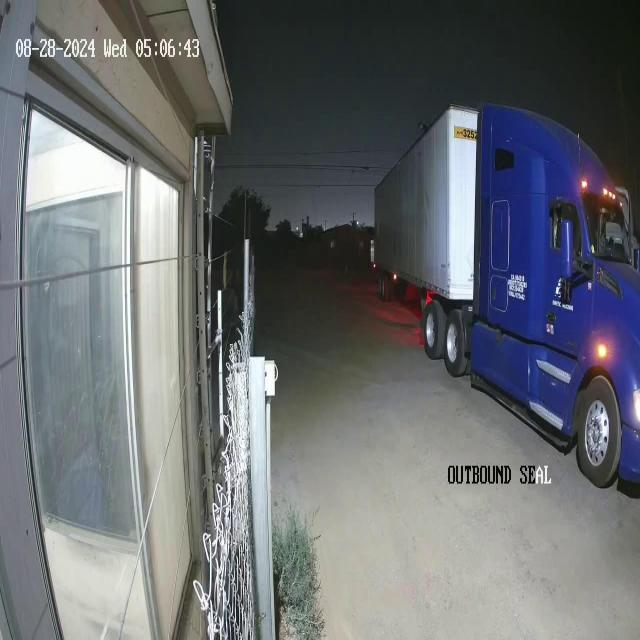TRUCK_IN: (373, 101, 639, 489)
